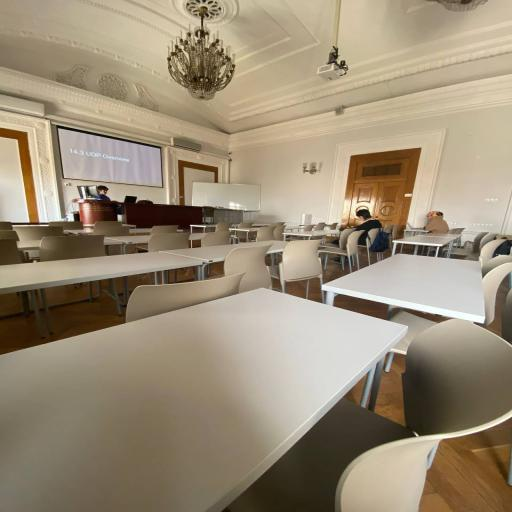bottle: (269, 240, 324, 302), (224, 242, 273, 292)
phone: (0, 289, 405, 512), (163, 240, 288, 280), (391, 235, 457, 257)
